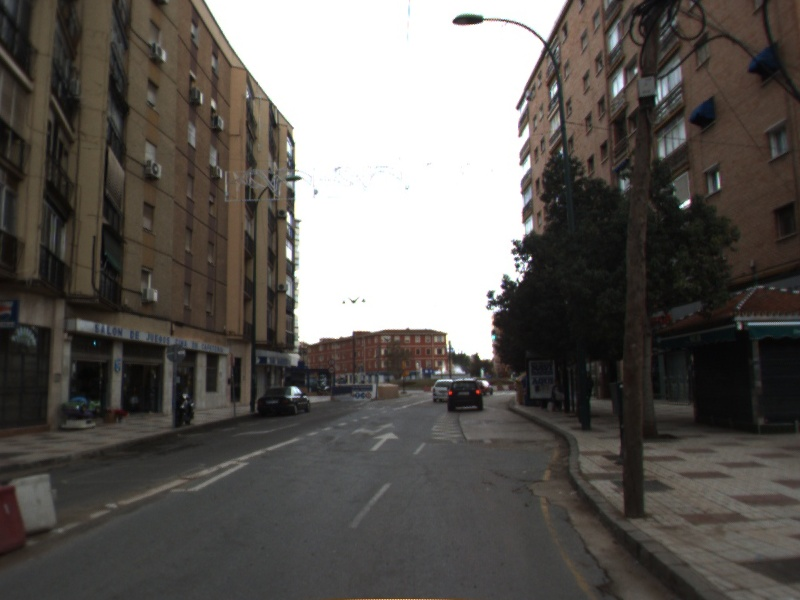STRAIGHT: (367, 429, 401, 453)
STRAIGHT_LEFT: (348, 420, 399, 437)
